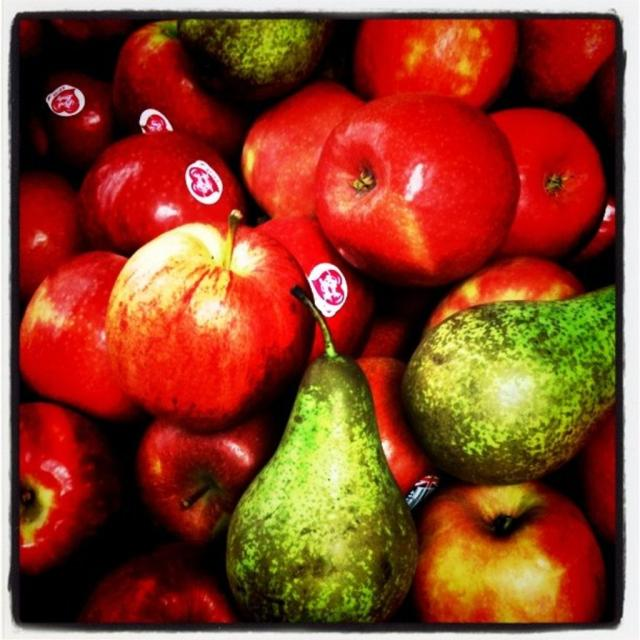apple: (105, 223, 316, 434), (315, 93, 517, 283), (411, 480, 604, 640)
pear: (226, 288, 417, 632), (399, 286, 625, 483), (176, 14, 330, 115)
